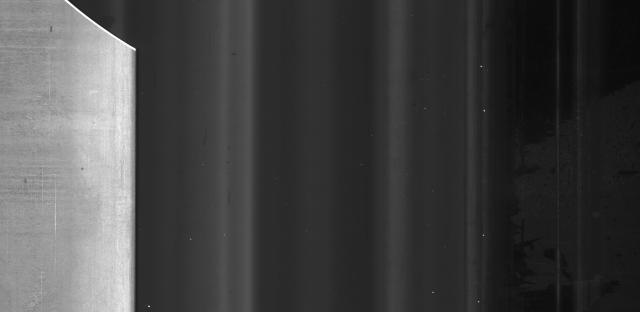crescent_gap: (55, 0, 157, 59)
